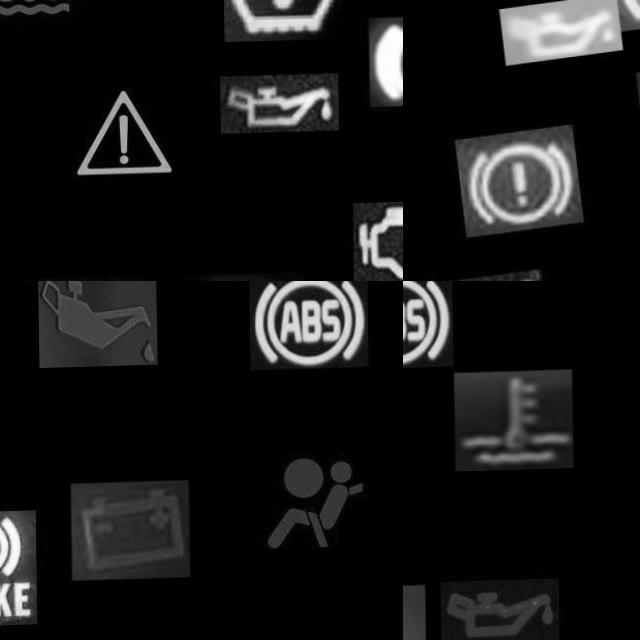Central Warning lamp: (63, 74, 183, 194)
Engine cooling system: (453, 372, 572, 474), (0, 0, 88, 36)
